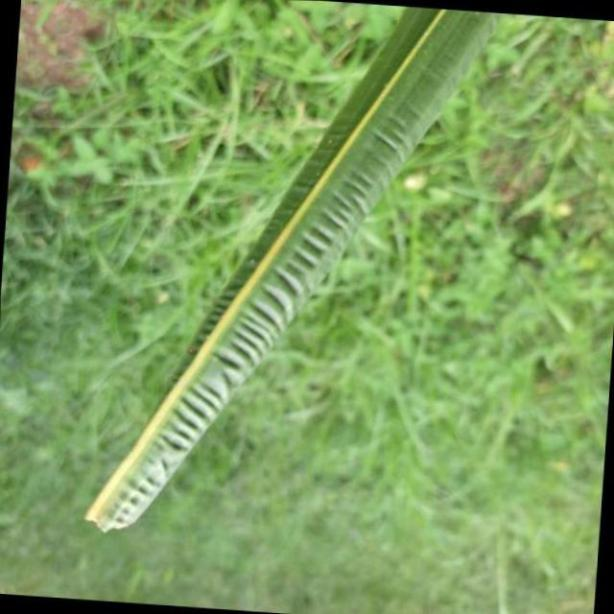Boron: (85, 0, 507, 555)
